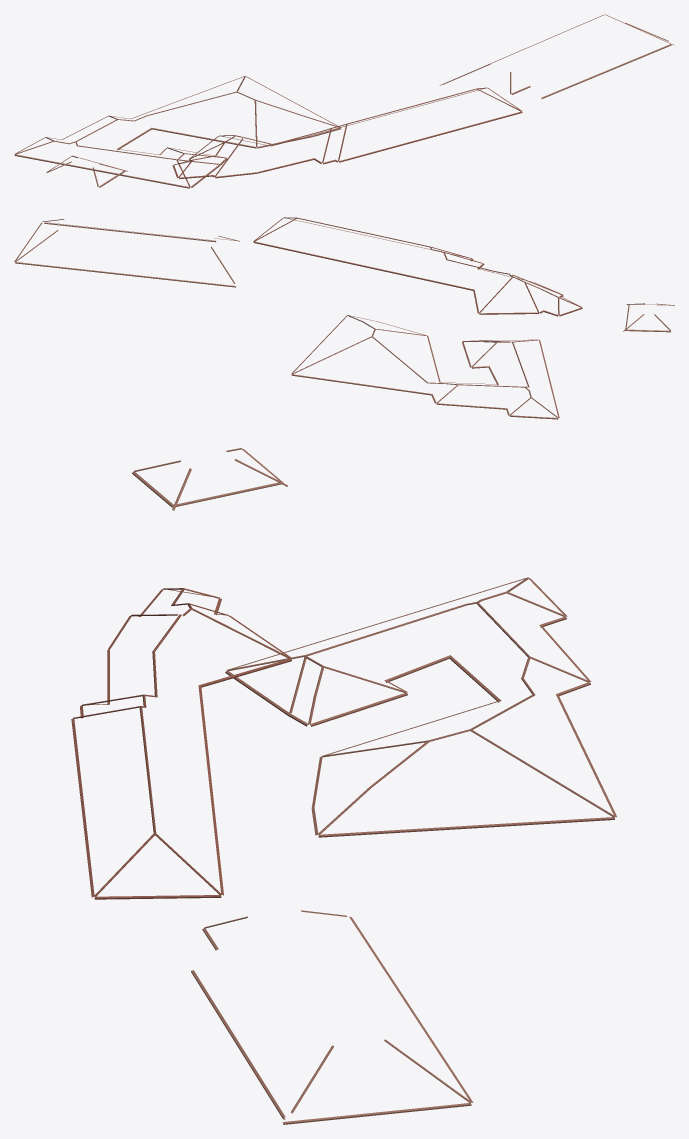
The picture shows the model from 3 angles, top to bottom: view 1: azimuth 30°, elevation 25°; view 2: azimuth 150°, elevation 25°; view 3: azimuth 270°, elevation 25°; orthographic projection. The views are drawn at different scales.
Visible parts, largest first — view 1: detail; view 2: detail; view 3: detail.
Part boxes in pixels (box(x1,y1,x2,y2)): detail: box(14, 14, 674, 188); detail: box(14, 217, 674, 419); detail: box(71, 448, 616, 1124).
Bounding box in the file's own units: 162 × 13.71 × 61.78.
